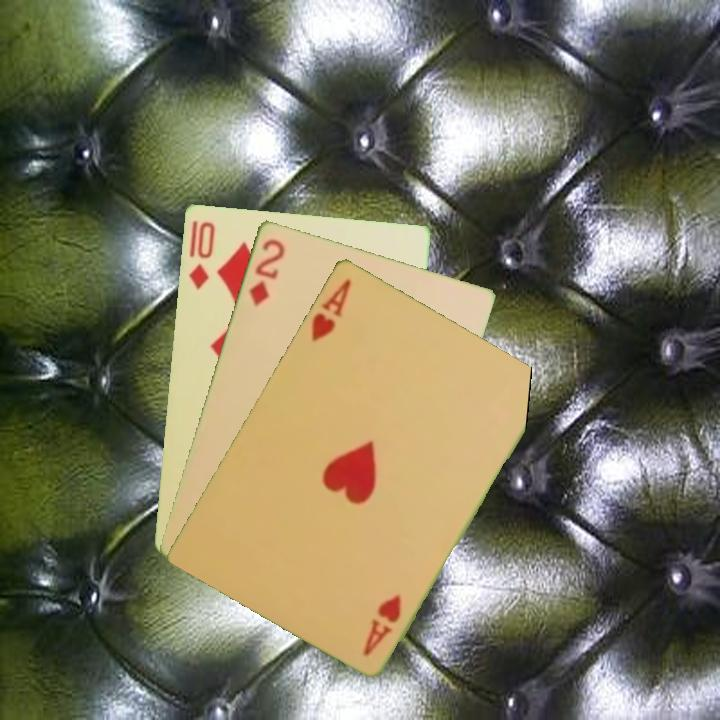10d: (185, 218, 217, 292)
2d: (245, 234, 288, 310)
Ah: (307, 274, 355, 344), (359, 590, 404, 659)
